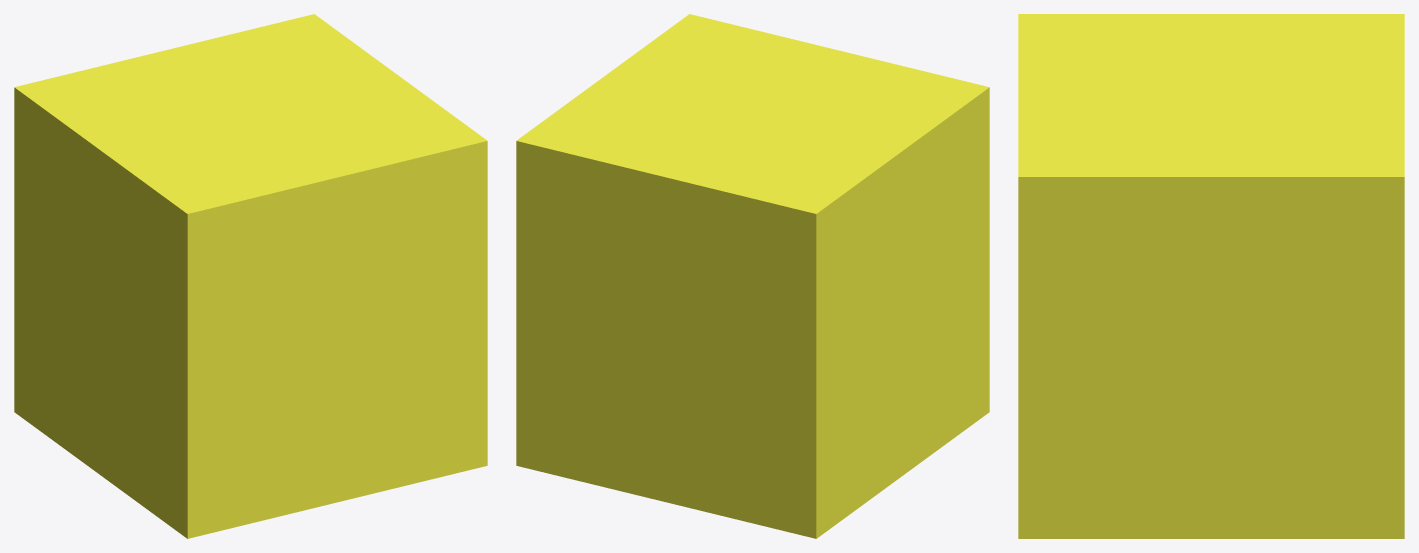
The model's file is spawn_trinket.glb.
The picture shows the model from 3 angles, left to right: view 1: azimuth 30°, elevation 25°; view 2: azimuth 150°, elevation 25°; view 3: azimuth 270°, elevation 25°; orthographic projection. The views are drawn at different scales.
Parts seen in each view (by area): view 1: SpawnTrinket; view 2: SpawnTrinket; view 3: SpawnTrinket.
Part boxes in pixels (x1,y1,x2,y2): SpawnTrinket: (14,14,487,538); SpawnTrinket: (516,14,989,538); SpawnTrinket: (1018,14,1404,538).
Bounding box in the file's own units: 0.4835 × 0.5 × 0.4835.
1 material, 1 textured.
